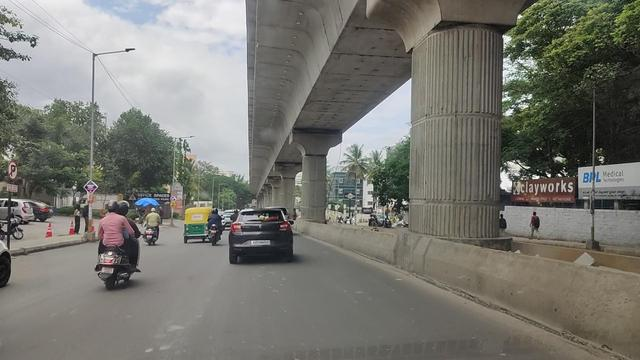LMV: (223, 208, 289, 267), (91, 194, 130, 293), (182, 208, 210, 241), (146, 206, 163, 244)
